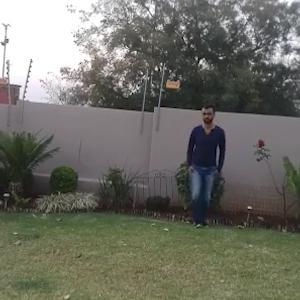follow: (182, 100, 228, 228)
